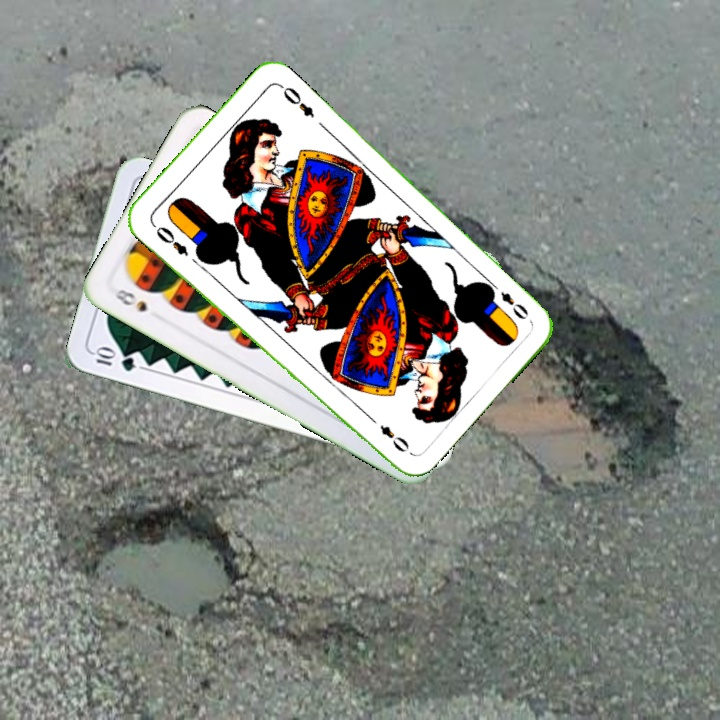EO: (147, 219, 192, 259), (496, 287, 531, 322)
G10: (90, 345, 138, 374)
S8: (110, 285, 150, 315)
